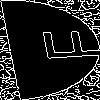E: (25, 25, 100, 63)
